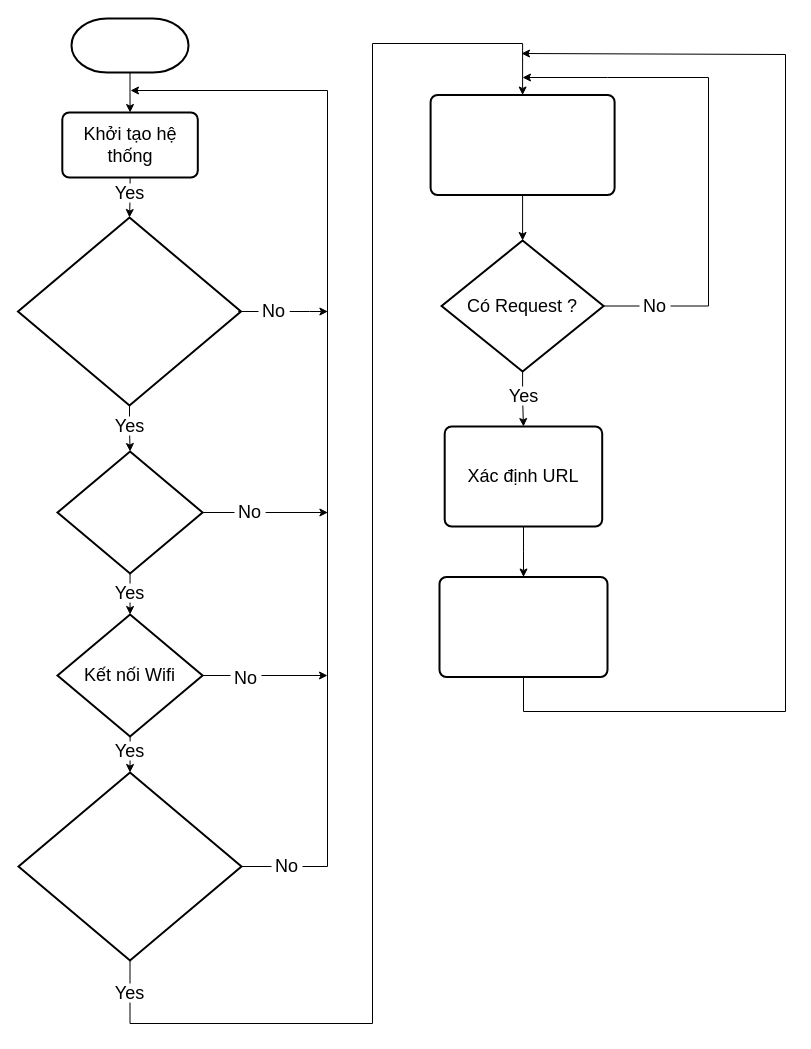
Some shapes in this 811 by 1049 pixel diagram are drawn without their labels. The shapes that lost their labels are listed below. From the top down, each one's box as (x1, y1, x2, y2) in pixels, then its label:
(70, 17, 189, 73): Bắt đầu
(429, 94, 615, 196): chạy server
(16, 216, 242, 406): Cấu hình camera (độ phân giải, buffer, JPEG)
(56, 450, 203, 574): Khởi động camera
(438, 576, 608, 678): Chụp ảnh + trả JPEG
(17, 771, 242, 961): Khởi tạo Webserver (/cam-lo /mid /hi)
